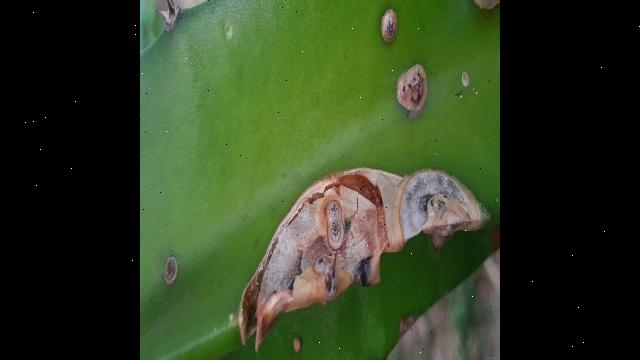stemcanker: (392, 61, 431, 120), (161, 249, 182, 291), (378, 6, 400, 45), (289, 334, 305, 357), (457, 68, 473, 90)
